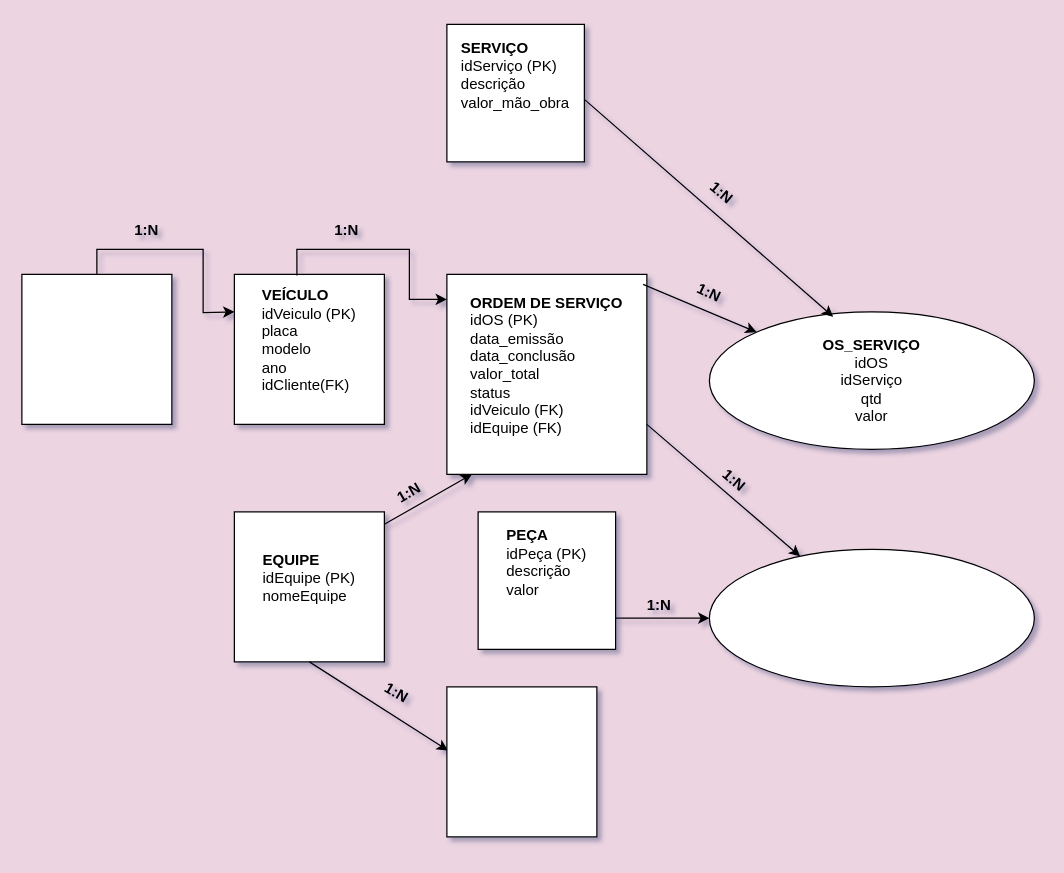
The diagram is 1064 pixels wide and 873 high, and some of its shapes have lost their labels. Here are the shapes that lost their labels. From the top down, the box of each, then its label:
(21, 273, 172, 424): CLIENTE idCliente (PK) nome endereço telefone
(708, 548, 1034, 687): OS_PEÇA idOS idPeça qtd valor
(446, 686, 597, 837): MECÂNICO idMecanico (PK) nome endereço especialidade idEquipe(FK)
